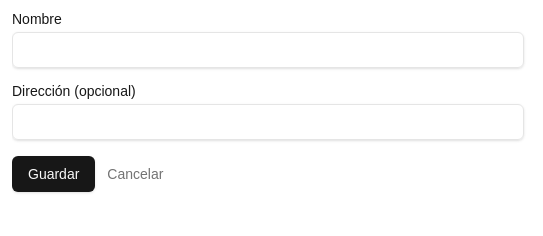
Test: LocationForm › should_render_a_field_error_on_the_name_input_and_move_focus_to_it
The width and height of the screenshot is (543, 236).
Type "Sucursal Centro" into the field labelled "Nombre" at (268,50), box [12, 32, 524, 68]
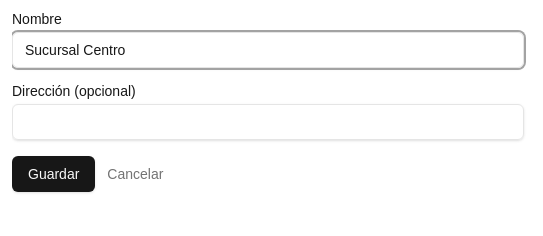
Click the button "Guardar" at (54,174), box [12, 156, 95, 192]
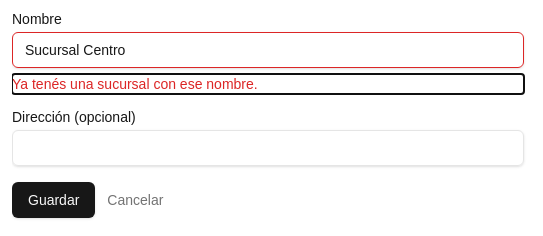
Expected: the message reads "Ya tenés una sucursal con ese nombre.", [12, 76, 258, 92]
